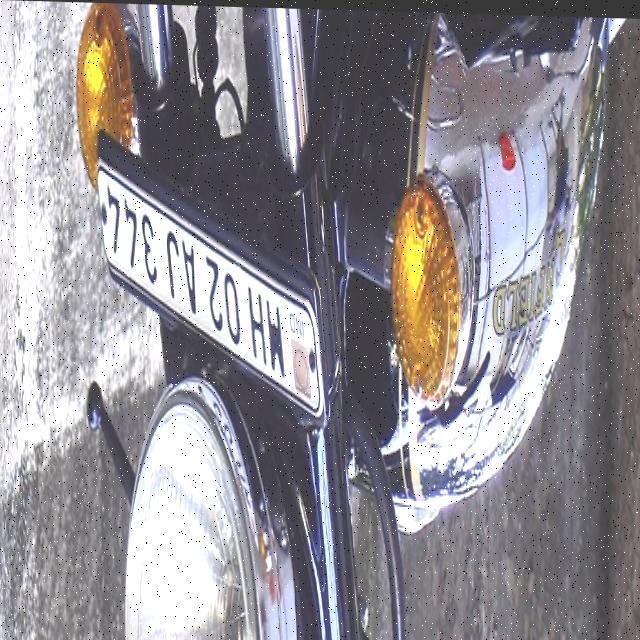plate: (89, 126, 337, 432)
